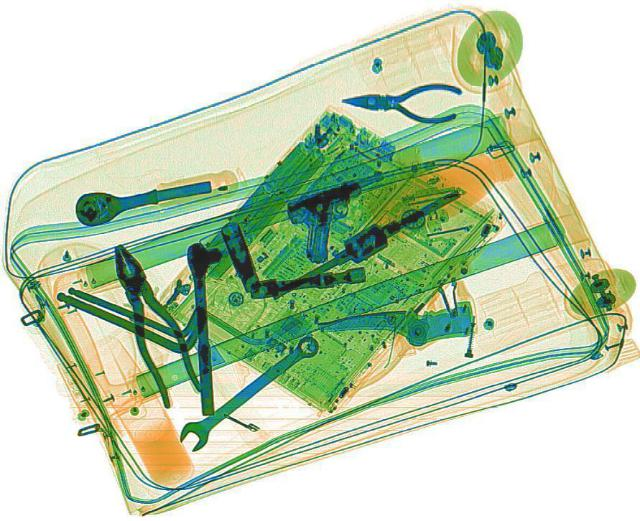Gun: (278, 157, 466, 264)
Pliers: (95, 238, 209, 409), (338, 79, 462, 123)
Wrench: (167, 330, 327, 453)
